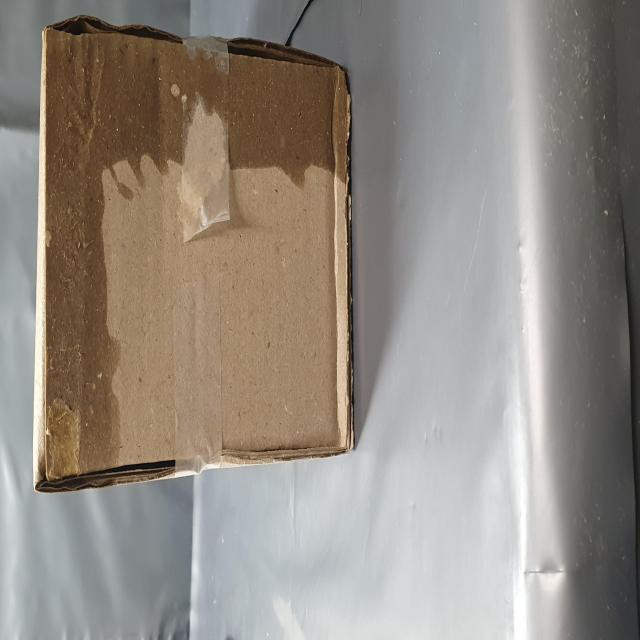wet: (91, 62, 343, 308), (250, 398, 332, 633)
